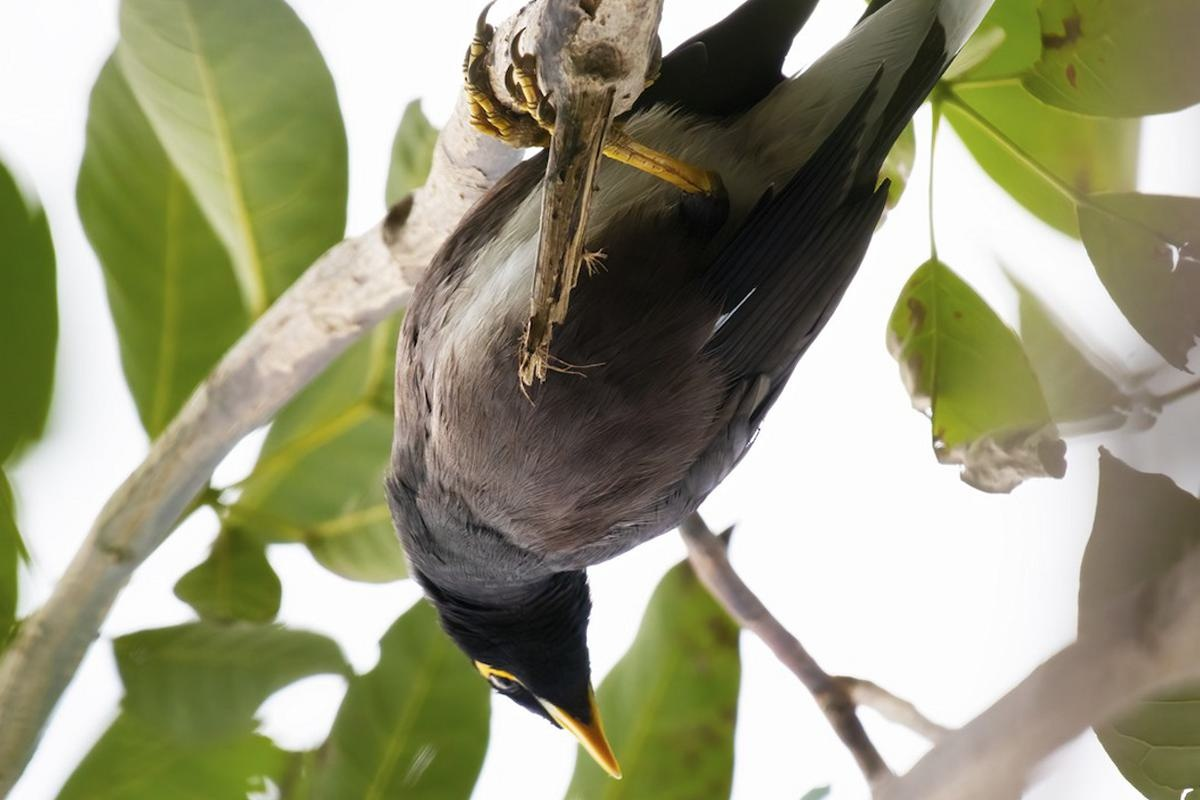myna: (389, 38, 927, 773)
